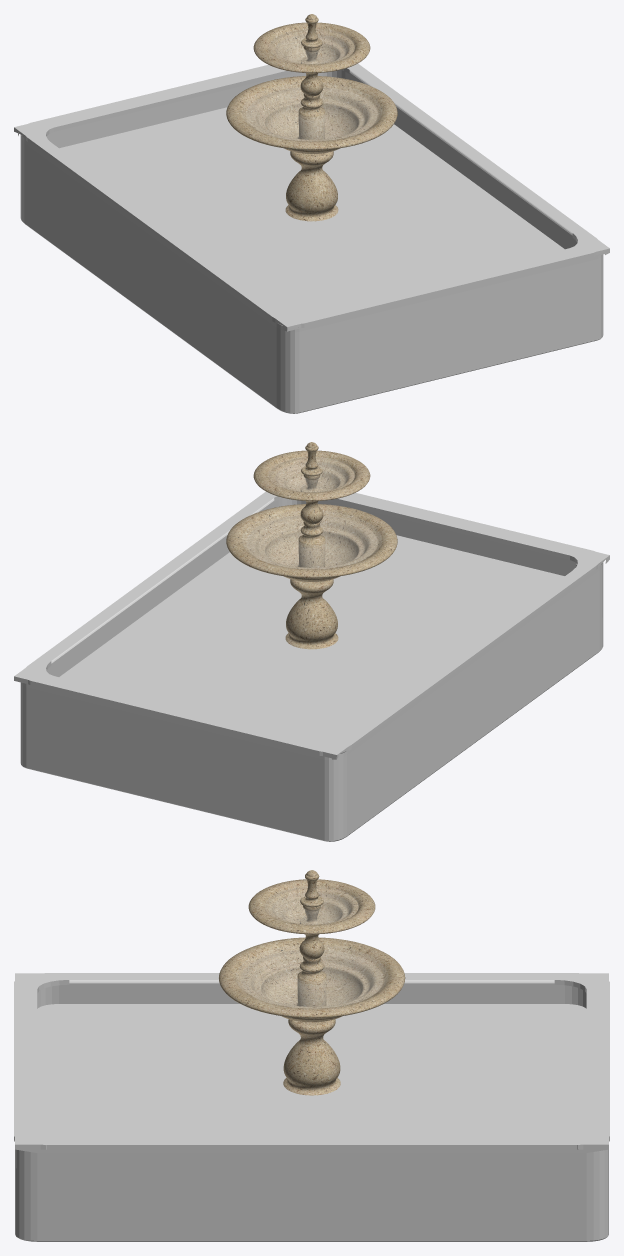
Rendered from rectangular_fountain.fbx.
3 views of the same model, one above another, from view 1: azimuth 30°, elevation 25°; view 2: azimuth 150°, elevation 25°; view 3: azimuth 270°, elevation 25° (orthographic). The views are drawn at different scales.
Parts seen in each view (by area): view 1: Bottom Frame, Water 03, Detail 01, Water 02, Water 01; view 2: Bottom Frame, Water 03, Detail 01, Water 02, Water 01; view 3: Bottom Frame, Water 03, Detail 01, Water 02, Water 01.
Part boxes in pixels (bbox=[...]): Bottom Frame: bbox=[14, 63, 609, 413]; Water 03: bbox=[59, 107, 564, 312]; Detail 01: bbox=[226, 14, 397, 221]; Water 02: bbox=[246, 87, 377, 140]; Water 01: bbox=[275, 34, 348, 63]; Bottom Frame: bbox=[14, 491, 609, 841]; Water 03: bbox=[59, 535, 564, 740]; Detail 01: bbox=[226, 442, 397, 649]; Water 02: bbox=[246, 515, 377, 568]; Water 01: bbox=[275, 462, 347, 491]; Bottom Frame: bbox=[14, 973, 609, 1241]; Water 03: bbox=[37, 1004, 586, 1138]; Detail 01: bbox=[219, 870, 405, 1095]; Water 02: bbox=[240, 949, 383, 1008]; Water 01: bbox=[272, 892, 351, 924].
Size of the model in its own units: 267 by 209 by 392.
